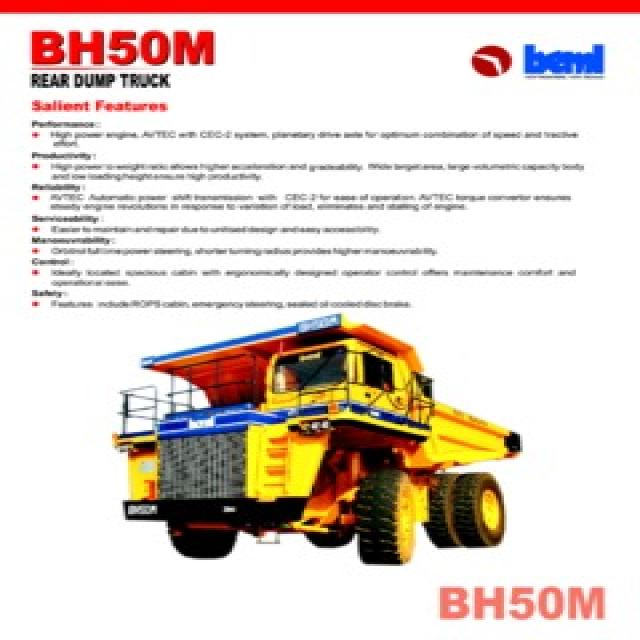dump_truck: (124, 317, 519, 563)
